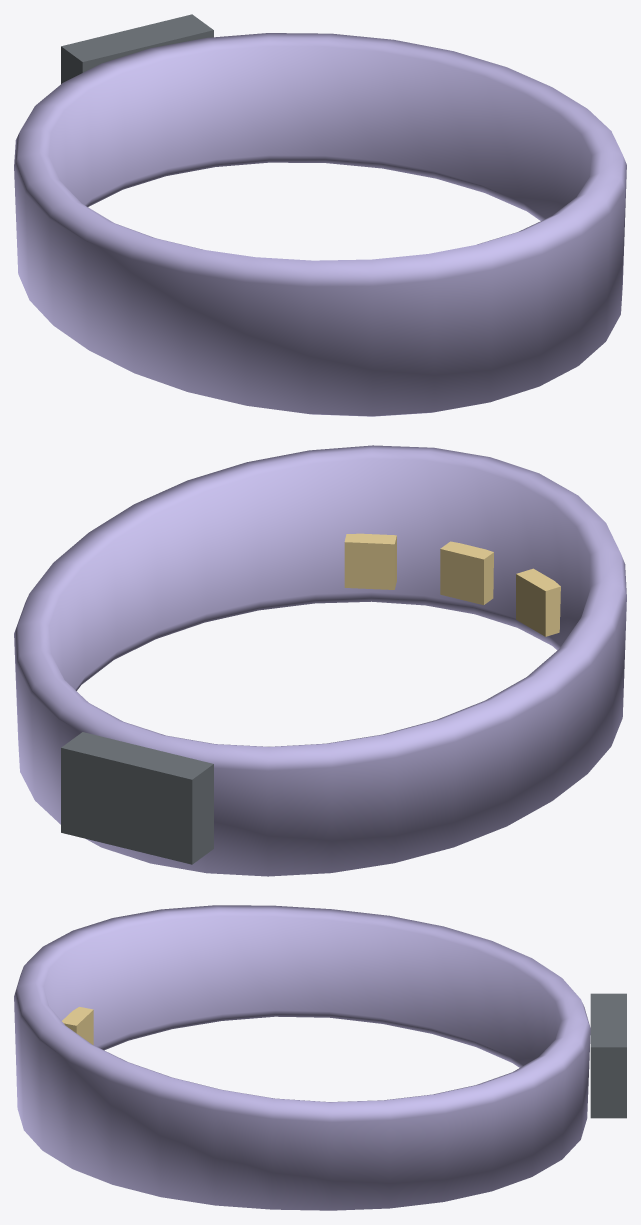
The model's file is headband.glb.
3 views of the same model, one above another, from view 1: azimuth 30°, elevation 25°; view 2: azimuth 150°, elevation 25°; view 3: azimuth 270°, elevation 25° (orthographic). The views are drawn at different scales.
Visible parts, largest first — view 1: Band, Battery; view 2: Band, Battery, Sensor_Center, Sensor_Right, Sensor_Left; view 3: Band, Battery, Sensor_Left.
Boxes of the visible parts, box(x1,y1,x2,y2) form: Band: box(14, 33, 626, 416); Battery: box(61, 14, 213, 83); Band: box(14, 445, 626, 876); Battery: box(61, 732, 213, 864); Sensor_Center: box(440, 541, 493, 605); Sensor_Right: box(344, 533, 396, 589); Sensor_Left: box(516, 568, 560, 636); Band: box(14, 905, 590, 1210); Battery: box(590, 993, 626, 1118); Sensor_Left: box(62, 1007, 93, 1044).
Bounding box in the file's own units: 0.1621 × 0.0508 × 0.203.
